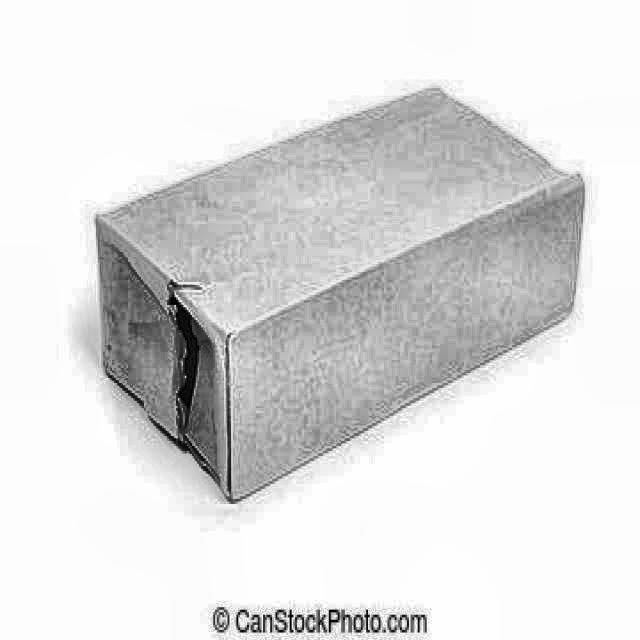box: (86, 74, 595, 512)
hole: (153, 282, 213, 444)
